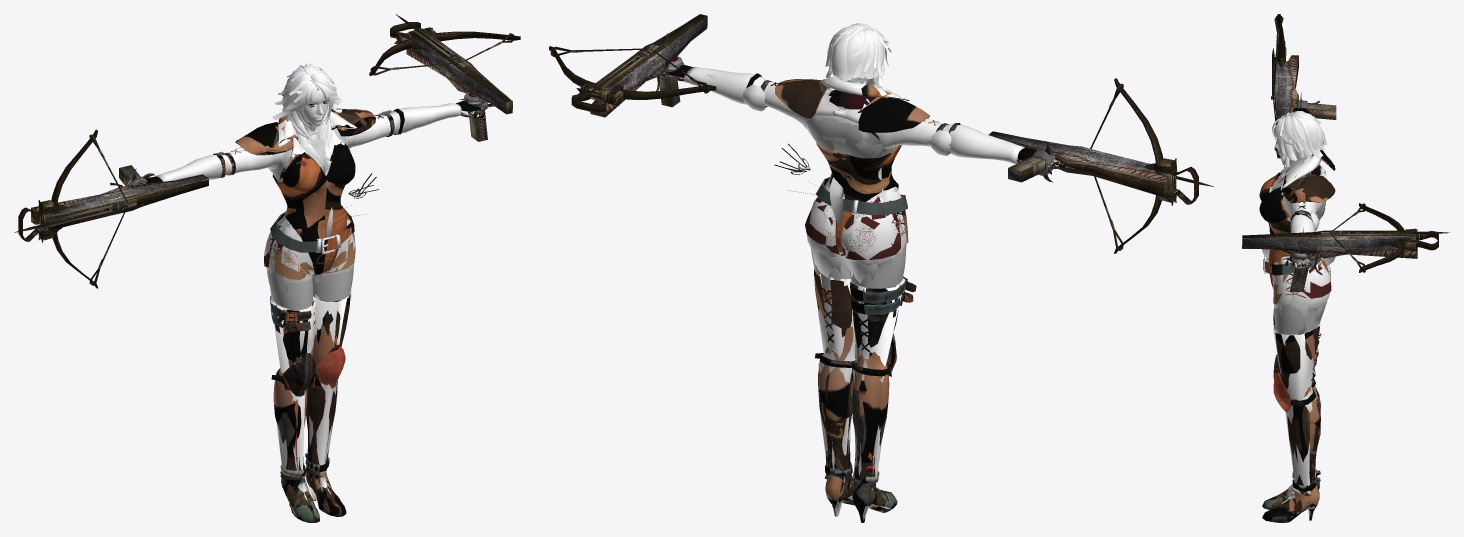
The model's file is Mamiya.dae.
3 views of the same model, side by side, from view 1: azimuth 30°, elevation 25°; view 2: azimuth 150°, elevation 25°; view 3: azimuth 270°, elevation 25° (orthographic). The views are drawn at different scales.
Visible parts, largest first — view 1: mesh0039, mesh0020, mesh0046, mesh0021, mesh0050, mesh0015, mesh0055, mesh0011, mesh0009, mesh0054, mesh0049, mesh0016 (+3 smaller); view 2: mesh0046, mesh0055, mesh0020, mesh0021, mesh0050, mesh0039, mesh0015, mesh0009, mesh0011, mesh0016, mesh0049, mesh0036 (+4 smaller); view 3: mesh0021, mesh0050, mesh0046, mesh0011, mesh0020, mesh0015, mesh0055, mesh0039, mesh0009, mesh0038, mesh0049, mesh0016 (+3 smaller).
Boxes of the visible parts, x1=… form: mesh0039: x1=270, y1=145, x2=355, y2=274; mesh0020: x1=14, y1=129, x2=208, y2=288; mesh0046: x1=154, y1=103, x2=461, y2=281; mesh0021: x1=369, y1=14, x2=520, y2=141; mesh0050: x1=271, y1=294, x2=350, y2=522; mesh0015: x1=271, y1=290, x2=352, y2=516; mesh0055: x1=273, y1=324, x2=346, y2=522; mesh0011: x1=272, y1=63, x2=342, y2=159; mesh0009: x1=267, y1=120, x2=353, y2=310; mesh0054: x1=282, y1=312, x2=345, y2=463; mesh0049: x1=264, y1=116, x2=355, y2=280; mesh0016: x1=233, y1=102, x2=450, y2=303; mesh0046: x1=684, y1=66, x2=1024, y2=264; mesh0055: x1=818, y1=326, x2=897, y2=522; mesh0020: x1=988, y1=78, x2=1213, y2=253; mesh0021: x1=549, y1=14, x2=716, y2=117; mesh0050: x1=814, y1=269, x2=900, y2=512; mesh0039: x1=816, y1=143, x2=907, y2=253; mesh0015: x1=818, y1=159, x2=1063, y2=520; mesh0009: x1=807, y1=81, x2=906, y2=291; mesh0011: x1=825, y1=23, x2=891, y2=89; mesh0016: x1=685, y1=74, x2=1021, y2=286; mesh0049: x1=805, y1=84, x2=909, y2=259; mesh0036: x1=858, y1=97, x2=926, y2=132; mesh0021: x1=1242, y1=203, x2=1449, y2=291; mesh0050: x1=1262, y1=326, x2=1321, y2=522; mesh0046: x1=1269, y1=154, x2=1331, y2=308; mesh0011: x1=1270, y1=111, x2=1327, y2=189; mesh0020: x1=1271, y1=14, x2=1336, y2=158; mesh0015: x1=1273, y1=314, x2=1319, y2=518; mesh0055: x1=1262, y1=363, x2=1320, y2=522; mesh0039: x1=1259, y1=172, x2=1328, y2=289; mesh0009: x1=1271, y1=157, x2=1326, y2=334; mesh0038: x1=1283, y1=173, x2=1335, y2=203; mesh0049: x1=1262, y1=154, x2=1331, y2=304; mesh0016: x1=1270, y1=146, x2=1326, y2=334.
Bounding box in the file's own units: 221 × 169 × 78.97.
